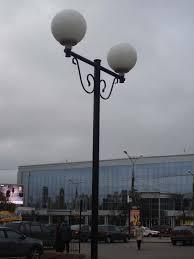Animal: (53, 10, 139, 259)
